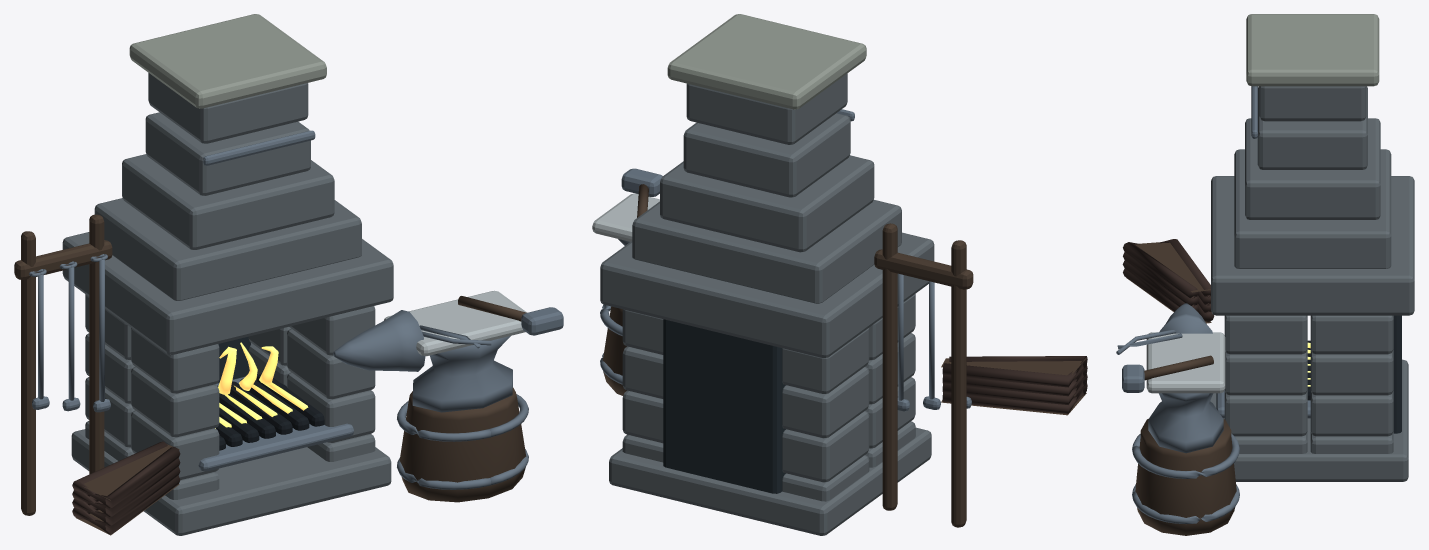
File: field_forge.glb
The picture shows the model from 3 angles, left to right: view 1: azimuth 30°, elevation 25°; view 2: azimuth 150°, elevation 25°; view 3: azimuth 270°, elevation 25°; orthographic projection. The views are drawn at different scales.
Parts seen in each view (by area): view 1: Body__stone, Body__iron, Body__oak, Body__edge, Body__leather, Body__dark, Body__silver, Body__ember, Body__recess; view 2: Body__stone, Body__recess, Body__oak, Body__edge, Body__leather, Body__iron, Body__silver; view 3: Body__stone, Body__edge, Body__oak, Body__iron, Body__silver, Body__leather, Body__recess.
Boxes of the visible parts, bbox=[...] form: Body__stone: bbox=[62, 73, 393, 535]; Body__iron: bbox=[29, 130, 563, 489]; Body__oak: bbox=[14, 214, 526, 535]; Body__edge: bbox=[129, 14, 326, 108]; Body__leather: bbox=[72, 441, 180, 534]; Body__dark: bbox=[216, 374, 324, 450]; Body__silver: bbox=[384, 290, 526, 356]; Body__ember: bbox=[215, 342, 308, 428]; Body__recess: bbox=[217, 336, 250, 383]; Body__stone: bbox=[600, 73, 934, 535]; Body__recess: bbox=[663, 319, 785, 493]; Body__oak: bbox=[603, 184, 1086, 527]; Body__edge: bbox=[667, 14, 866, 109]; Body__leather: bbox=[942, 356, 1087, 413]; Body__iron: bbox=[600, 109, 971, 411]; Body__silver: bbox=[592, 193, 659, 241]; Body__stone: bbox=[1210, 86, 1414, 481]; Body__edge: bbox=[1246, 14, 1379, 86]; Body__oak: bbox=[1126, 242, 1236, 535]; Body__iron: bbox=[1116, 86, 1310, 524]; Body__silver: bbox=[1146, 332, 1225, 393]; Body__leather: bbox=[1122, 239, 1214, 322]; Body__recess: bbox=[1393, 315, 1401, 433].
Bounding box in the file's own units: 3.33 × 2.87 × 1.98.
